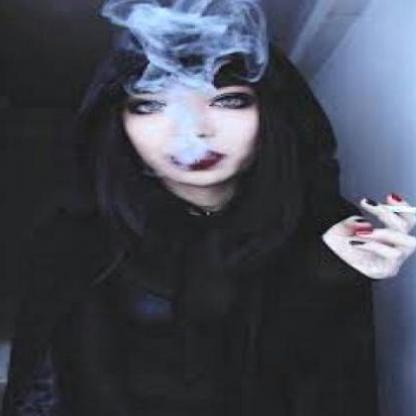cigarette: (371, 200, 415, 217)
person: (54, 33, 361, 415)
smoke: (103, 0, 280, 99)
